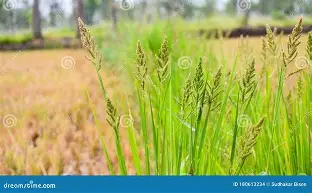weed: (0, 24, 310, 174), (78, 19, 311, 174), (0, 50, 114, 174)
